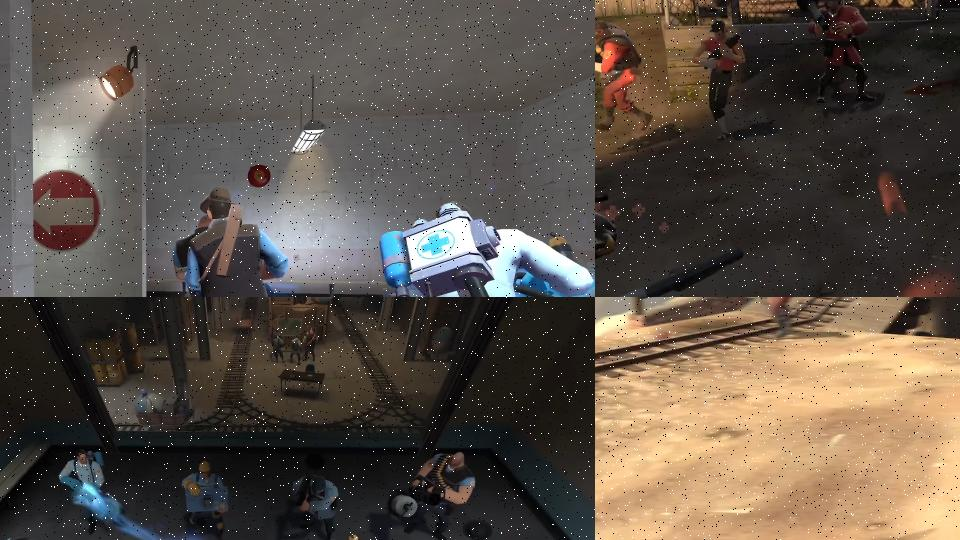Enemy: (140, 185, 354, 297), (374, 197, 595, 297), (595, 175, 747, 297), (385, 447, 478, 540), (796, 0, 877, 104), (595, 19, 653, 133), (693, 19, 747, 141), (57, 447, 129, 534), (171, 214, 244, 297), (290, 450, 340, 540), (180, 458, 233, 540), (701, 297, 797, 336), (303, 330, 319, 363), (272, 334, 286, 363), (290, 335, 302, 366)
